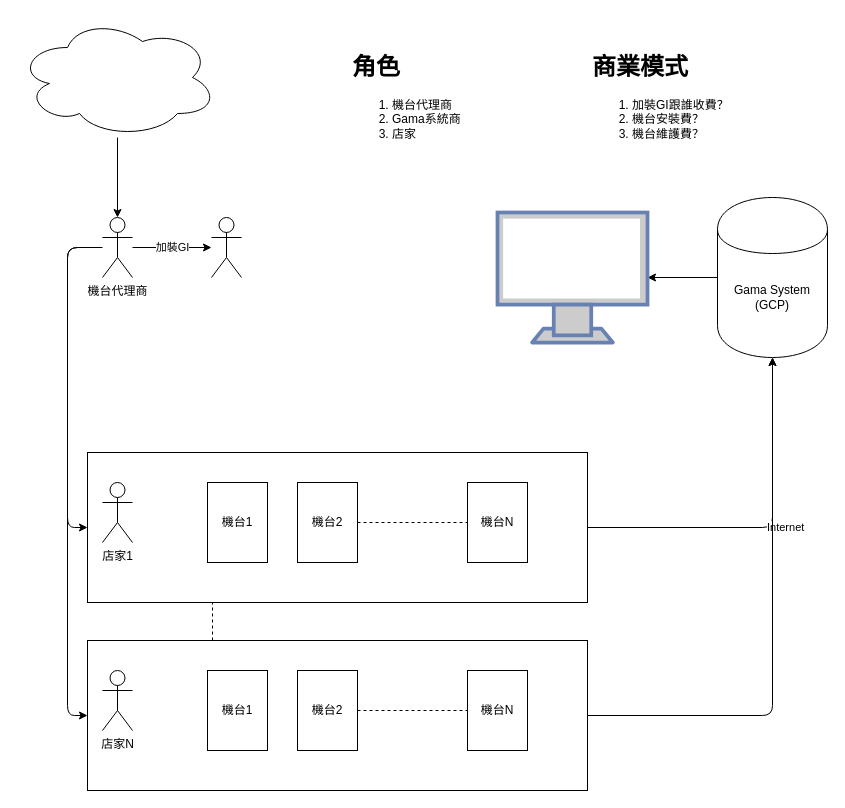
The diagram is 845 pixels wide and 808 high, and some of its shapes have lost their labels. The shapes that lost their labels are listed below. From the top down, each one's centre as x and y in pixels, then its label:
At [117,77]: "國外二手機台市場".
At [226,247]: "GAMA".
At [572,277]: "Report System".
